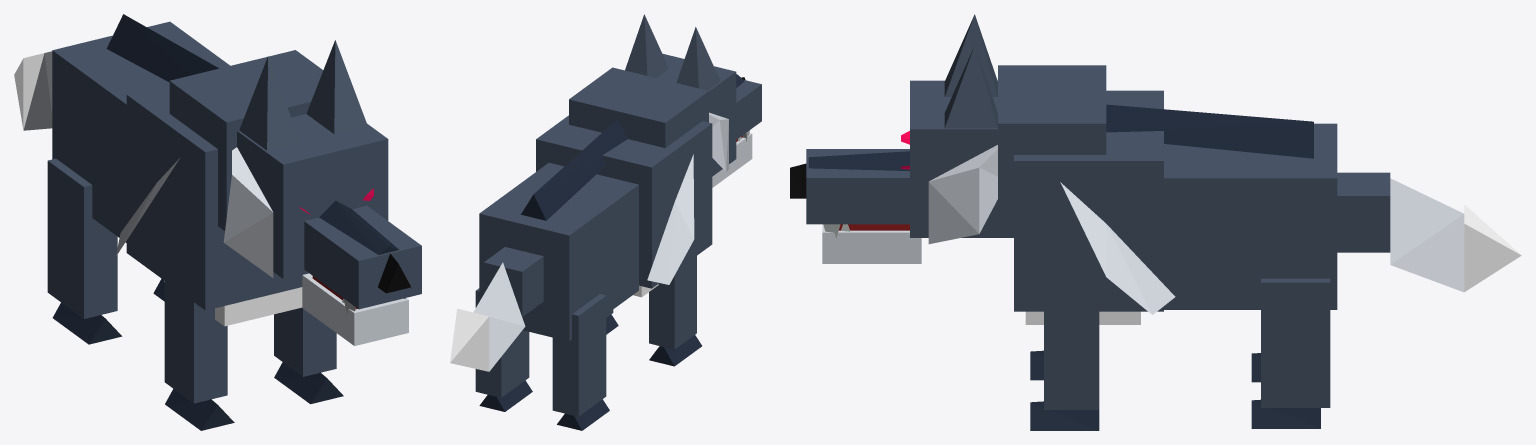
Rendered from wolf.obj.
3 renders of one model, left to right at view 1: azimuth 30°, elevation 25°; view 2: azimuth 150°, elevation 25°; view 3: azimuth 270°, elevation 25°, orthographic. The views are drawn at different scales.
Visible parts, largest first — view 1: Wolf; view 2: Wolf; view 3: Wolf.
Part boxes in pixels (box(x1,y1,x2,y2)): Wolf: box(14, 14, 421, 430); Wolf: box(450, 14, 761, 430); Wolf: box(790, 14, 1521, 430).
Bounding box in the file's own units: 0.96 × 1.76 × 3.17.
